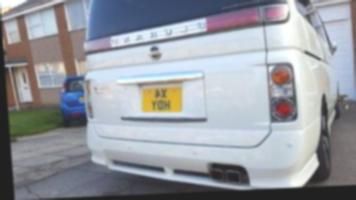License_Plate: (136, 82, 188, 119)
